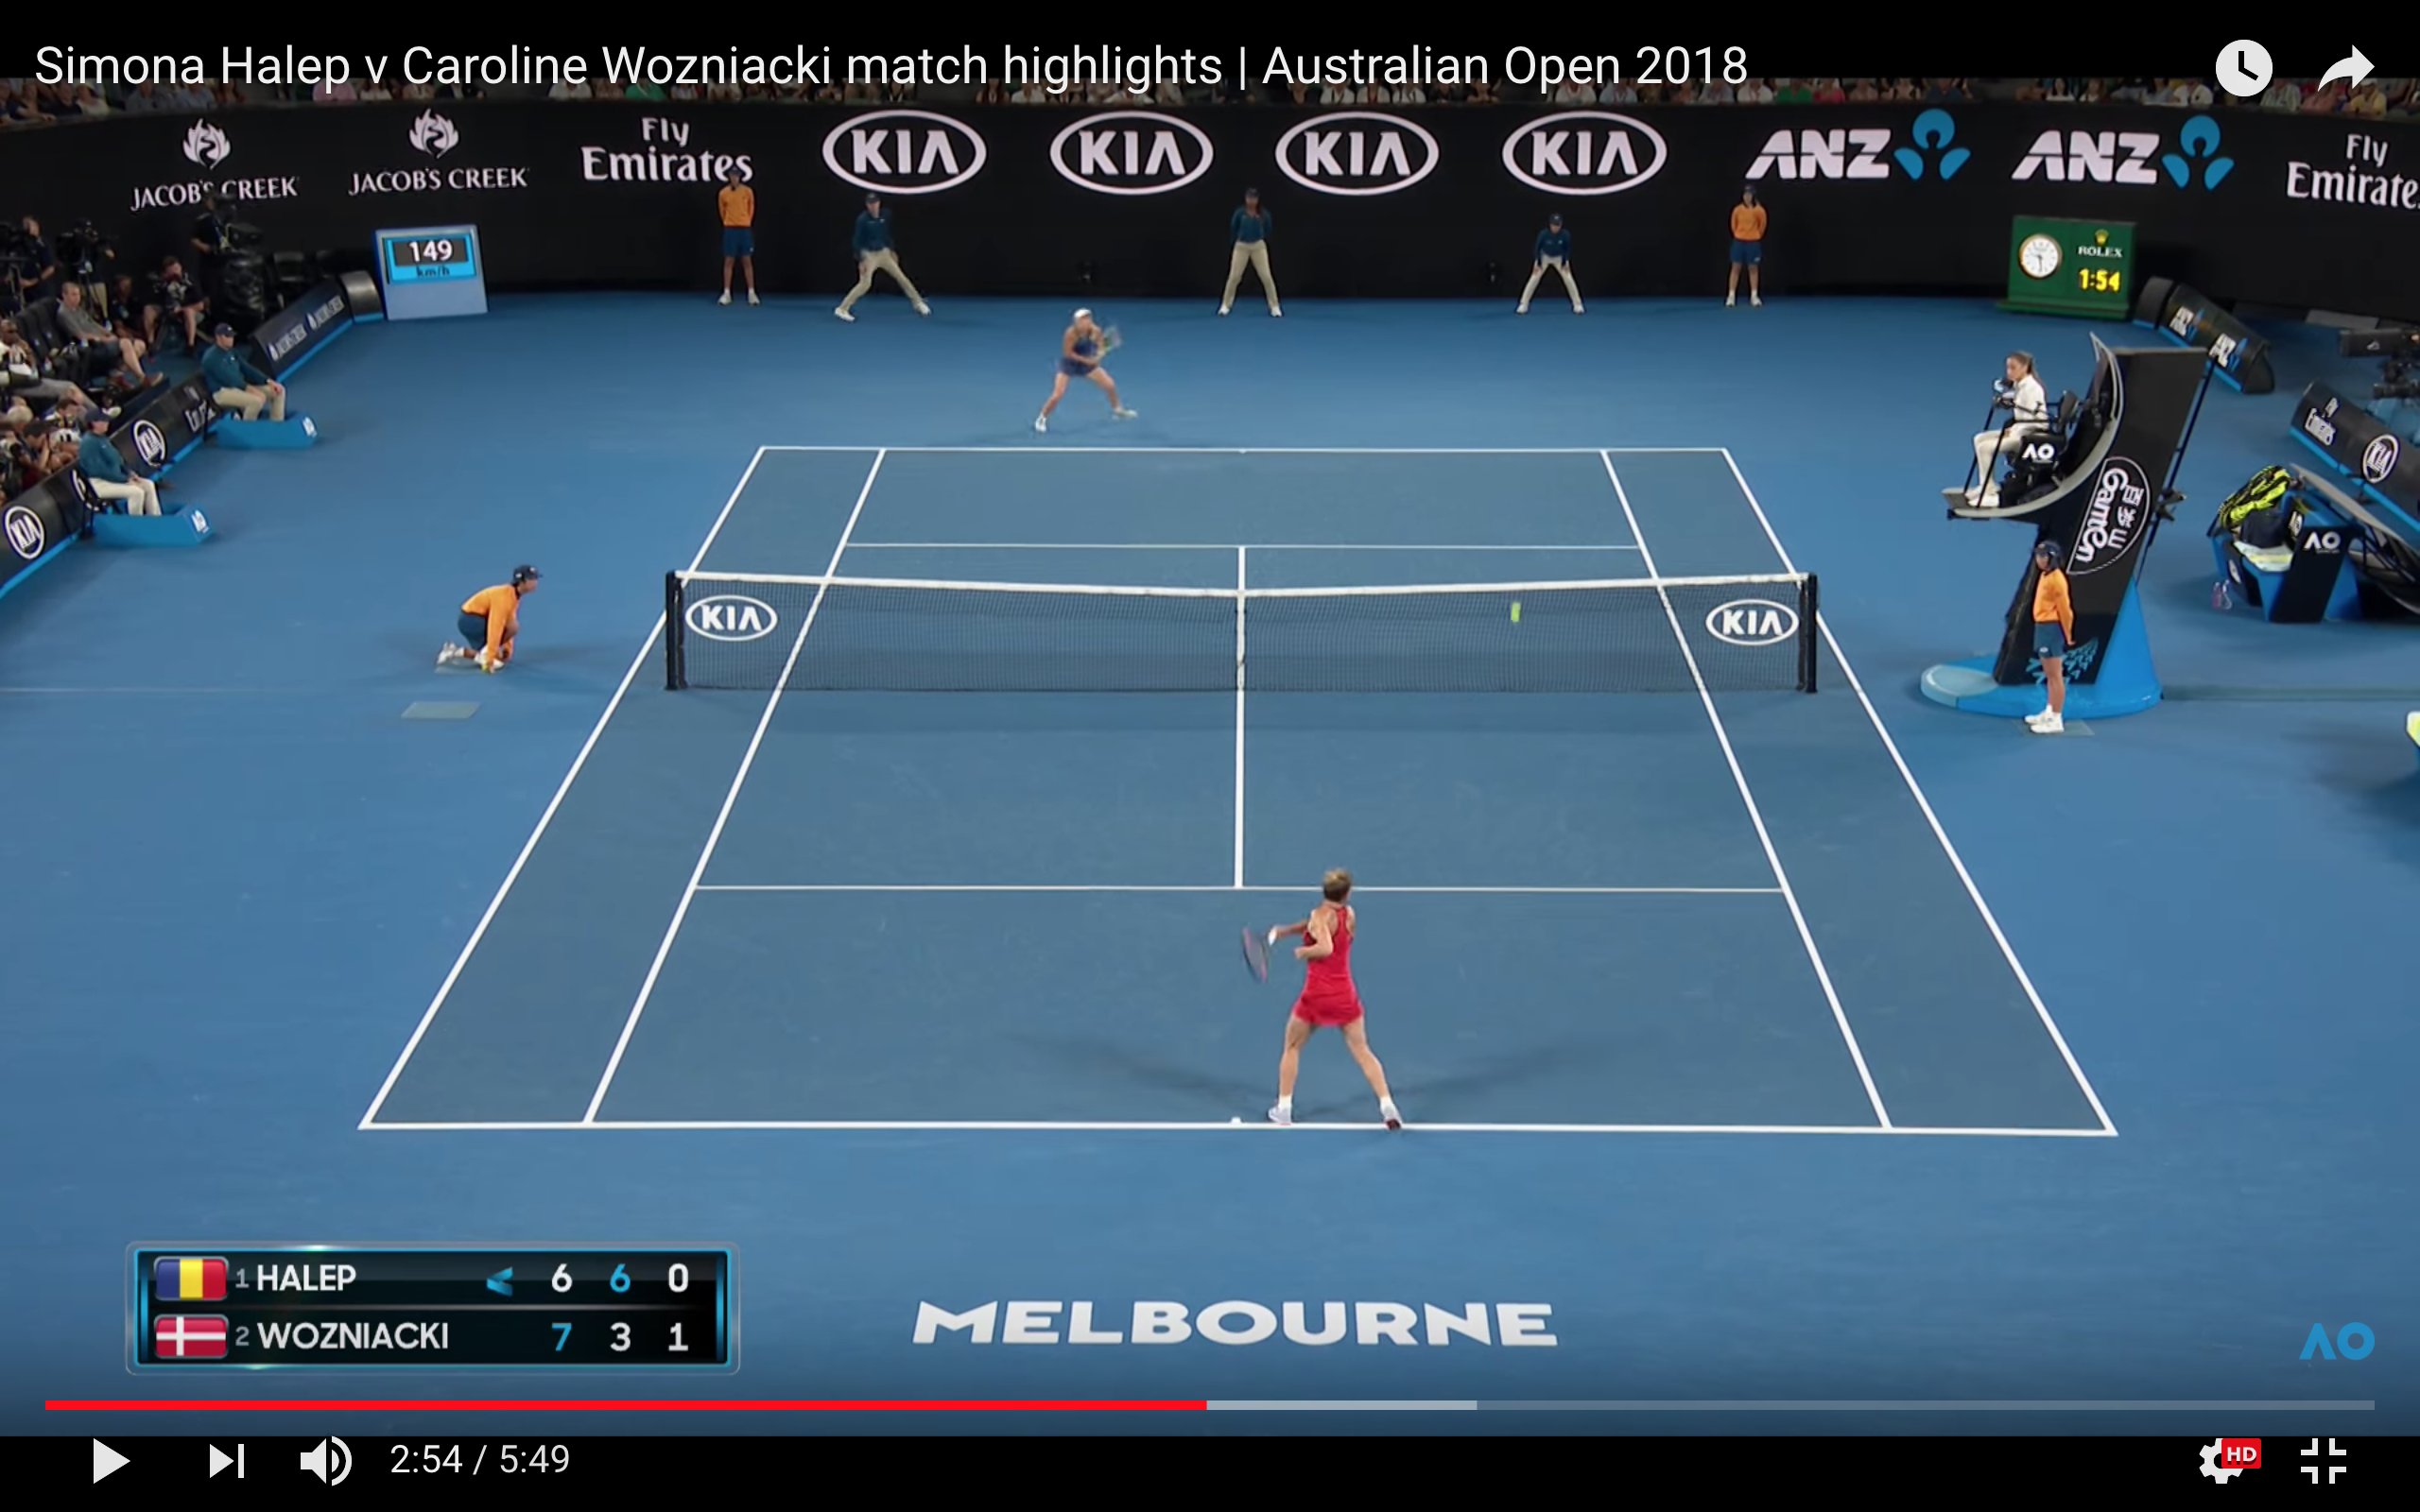tennis ball: (1499, 597, 1538, 631)
tennis player: (1263, 868, 1407, 1129), (1036, 304, 1149, 439)
